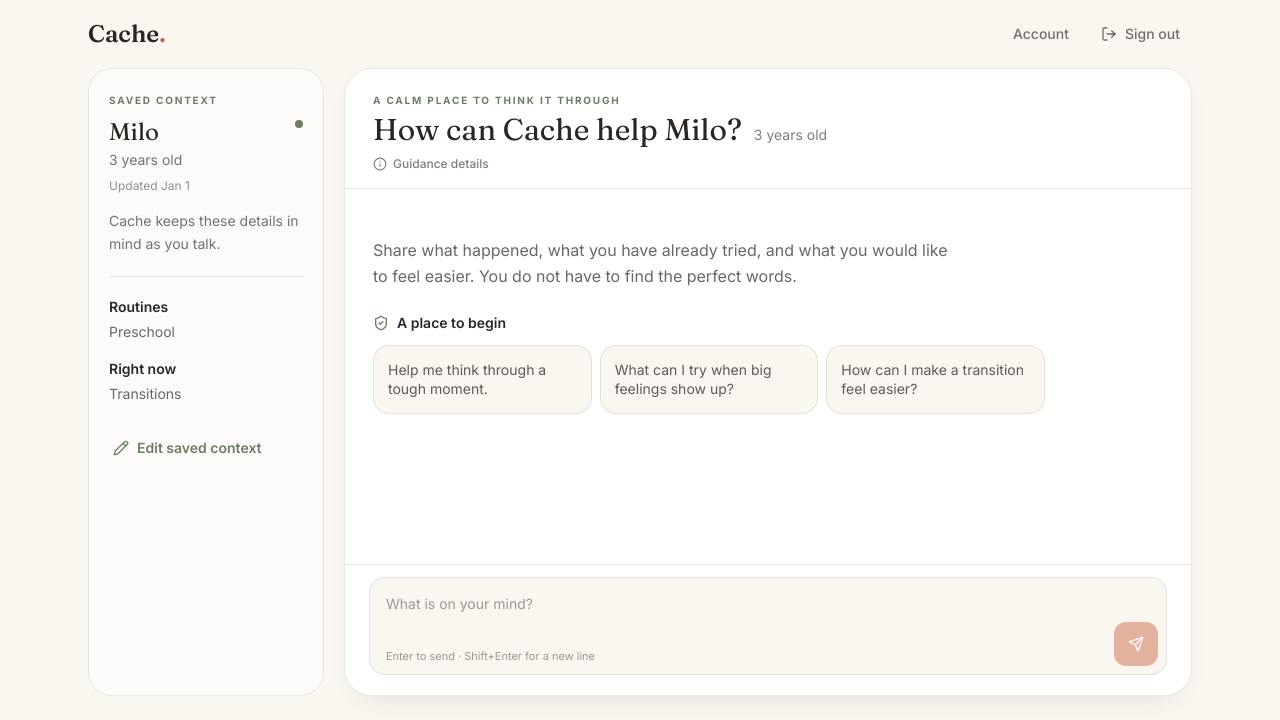
Test: CacheApp › aborts hanging chat attempts and retries with the original idempotency ID
Type "What should I try?" into the text box named "Message Cache". click: (740, 614)
box: [378,586,1102,642]
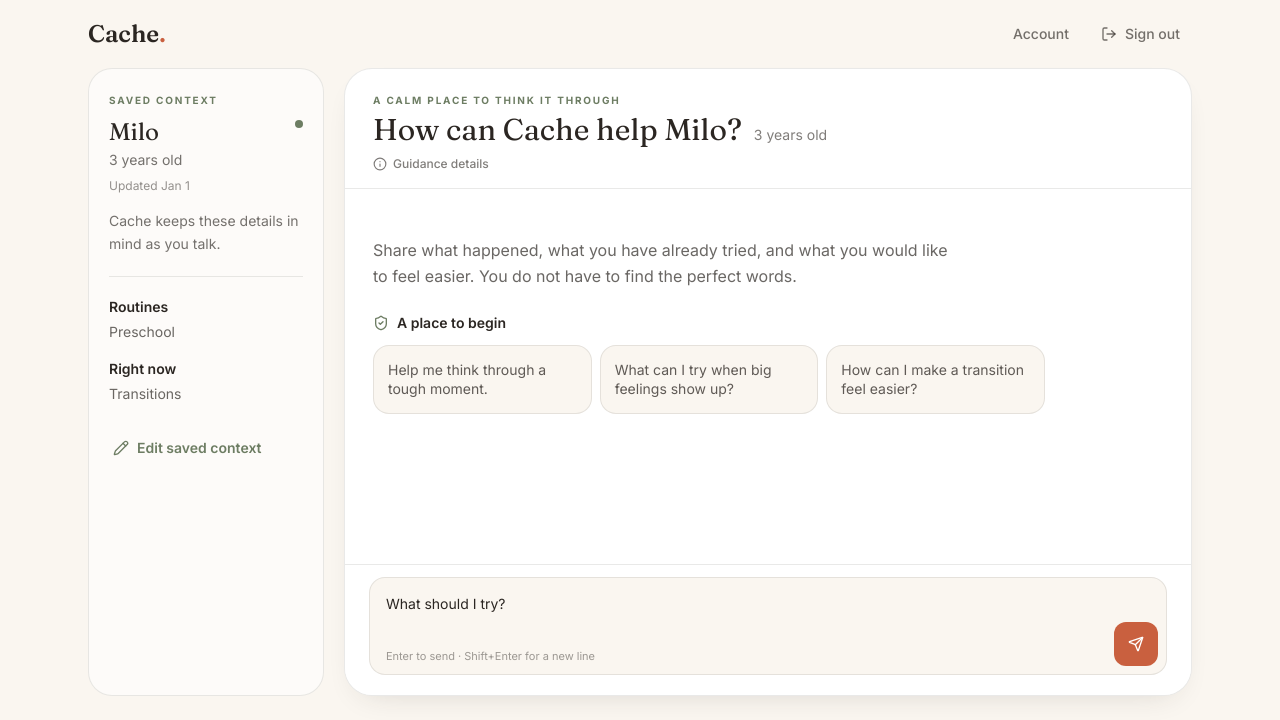
Submit the form named "Message Cache", box [369,576,1167,675]
Wait 100000 ms
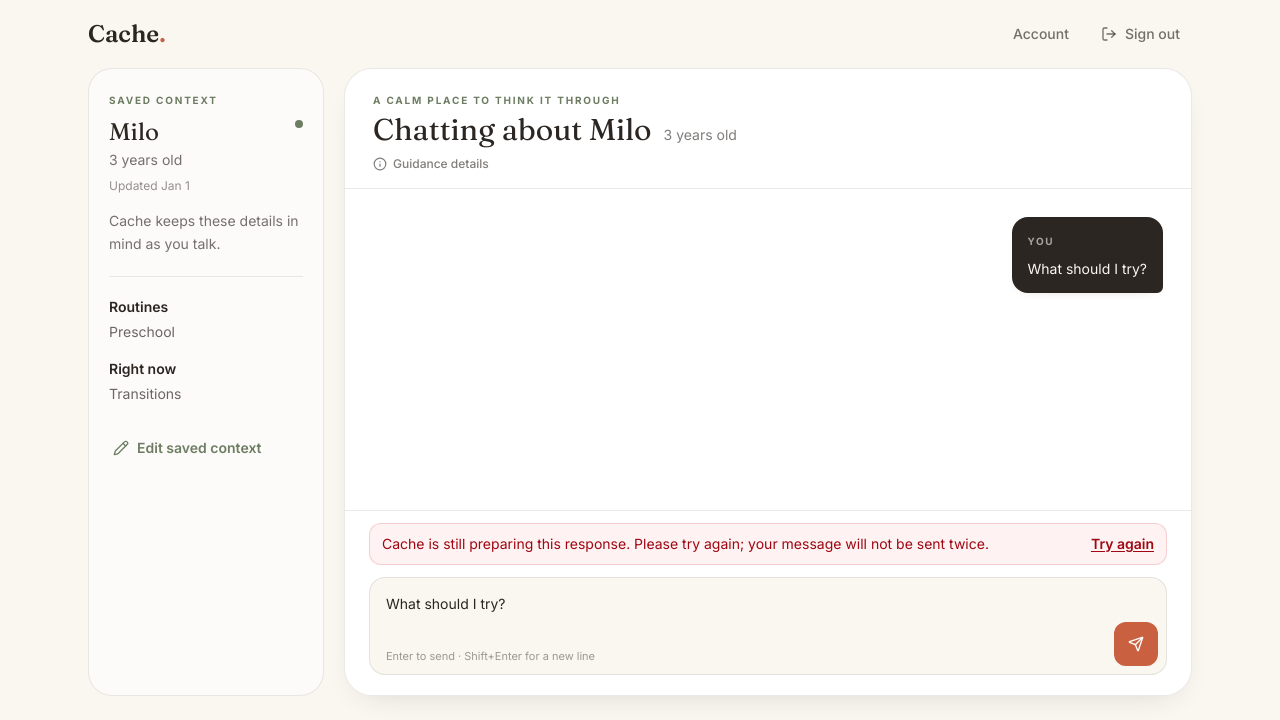
Expected: the text "Cache is still preparing this response" is shown, [382,534,989,552]
